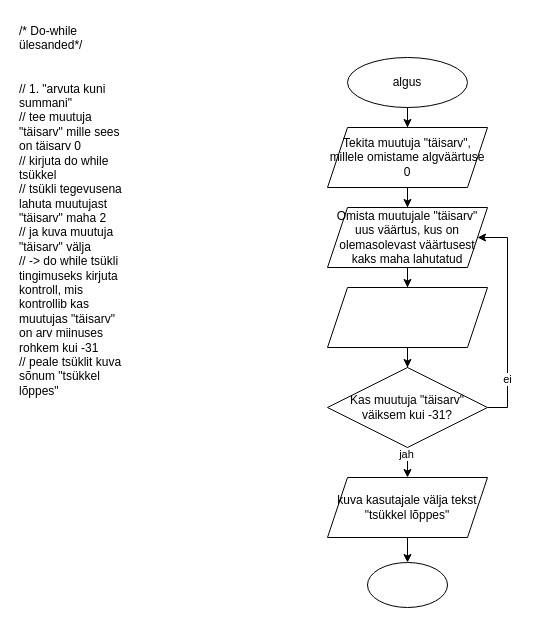
Some shapes in this 533 by 625 pixel diagram are drawn without their labels. The box of each missing label's shape, as (x1, y1, x2, y2) in pixels:
kuva kasutajale "täisarv" väja: (326, 286, 488, 348)
Lõpp: (366, 562, 448, 608)
